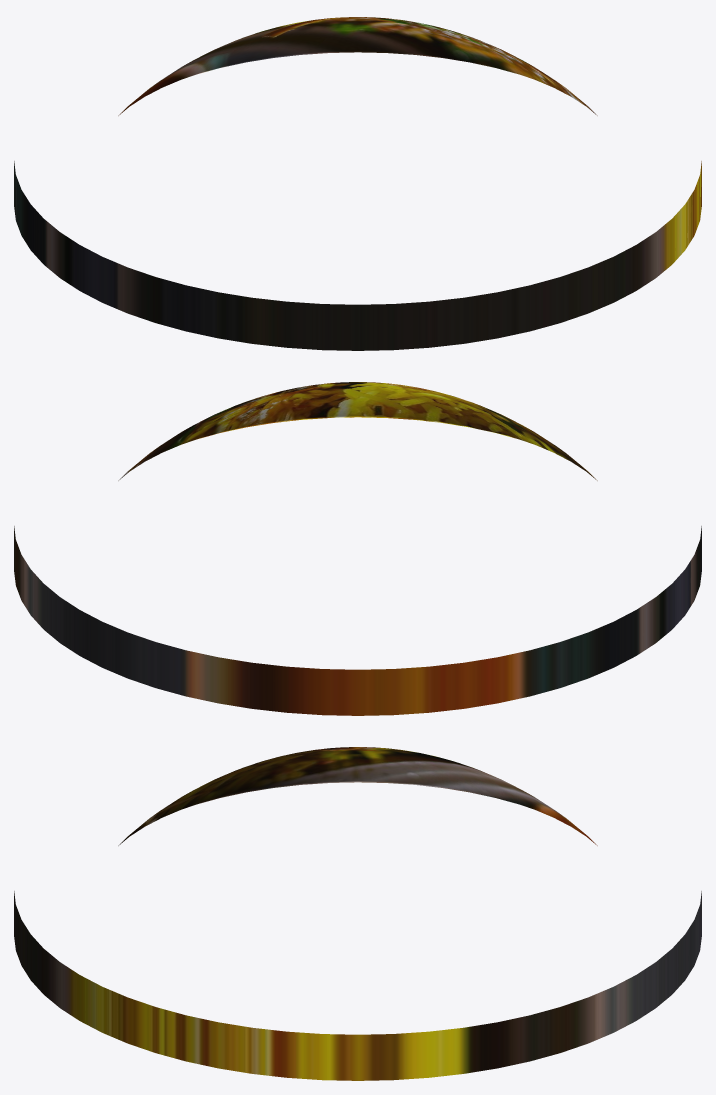
The model's file is mutton-pulao.glb.
3 views of the same model, one above another, from view 1: azimuth 30°, elevation 25°; view 2: azimuth 150°, elevation 25°; view 3: azimuth 270°, elevation 25° (orthographic).
Parts seen in each view (by area): view 1: mutton-pulao; view 2: mutton-pulao; view 3: mutton-pulao.
Boxes of the visible parts, left/top/right/bottom form: mutton-pulao: left=14, top=17, right=701, bottom=350; mutton-pulao: left=14, top=382, right=701, bottom=715; mutton-pulao: left=14, top=747, right=701, bottom=1080.
Size of the model in its own units: 0.27 by 0.069 by 0.27.
1 material, 1 textured.
